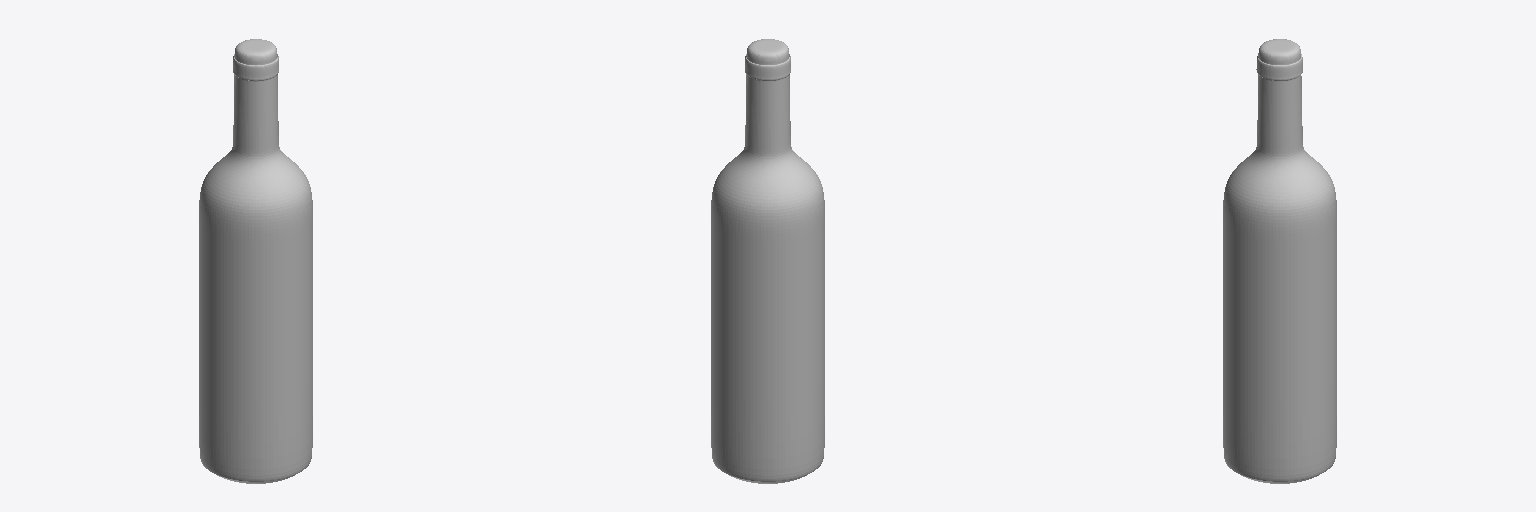
File: wine.obj
3 views of the same model, side by side, from view 1: azimuth 30°, elevation 25°; view 2: azimuth 150°, elevation 25°; view 3: azimuth 270°, elevation 25° (orthographic).
Visible parts, largest first — view 1: 14042_750_mL_Wine_Bottle_r_v2_L3; view 2: 14042_750_mL_Wine_Bottle_r_v2_L3; view 3: 14042_750_mL_Wine_Bottle_r_v2_L3.
Part boxes in pixels (bbox=[...]): 14042_750_mL_Wine_Bottle_r_v2_L3: bbox=[199, 39, 312, 483]; 14042_750_mL_Wine_Bottle_r_v2_L3: bbox=[711, 39, 824, 483]; 14042_750_mL_Wine_Bottle_r_v2_L3: bbox=[1223, 39, 1336, 483].
Size of the model in its own units: 0.6597 by 2.68 by 0.6597.